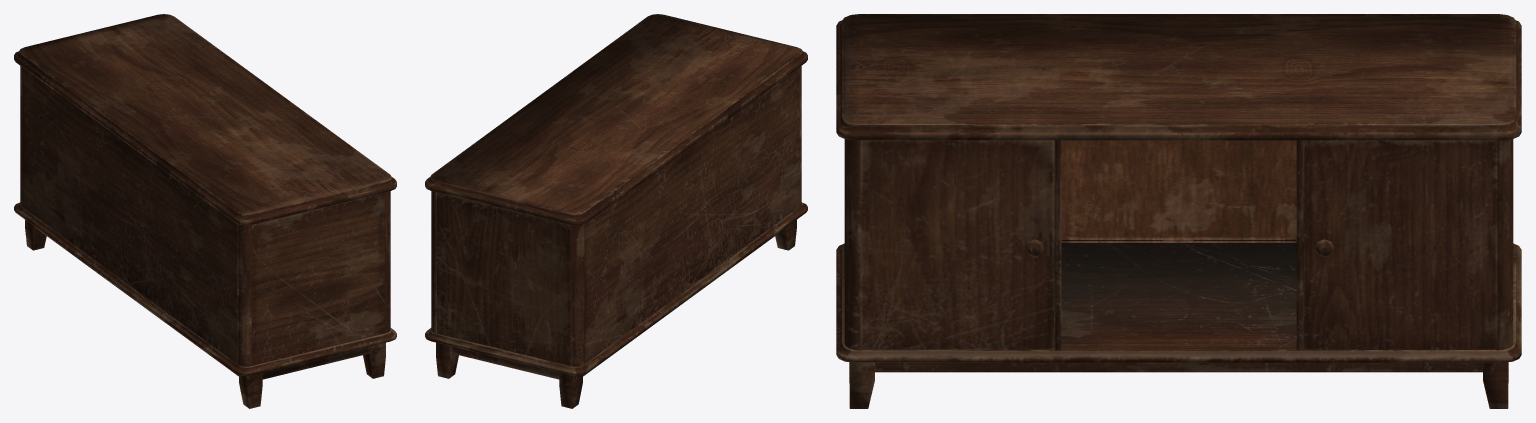
Rendered from soviet_old_table.glb.
3 views of the same model, side by side, from view 1: azimuth 30°, elevation 25°; view 2: azimuth 150°, elevation 25°; view 3: azimuth 270°, elevation 25° (orthographic). The views are drawn at different scales.
Parts seen in each view (by area): view 1: 8_low, 9_low, 4_low, 2_low, 5_low, 11_low, 13_low; view 2: 8_low, 9_low, 4_low, 2_low, 5_low, 11_low, 13_low; view 3: 8_low, 7_low, 2_low, 10_low, 5_low, 12_low, 6_low, 11_low.
Boxes of the visible parts, box(x1,y1,x2,y2) form: 8_low: box(14, 14, 396, 225); 9_low: box(22, 67, 237, 363); 4_low: box(251, 192, 384, 365); 2_low: box(14, 202, 396, 375); 5_low: box(20, 66, 390, 366); 11_low: box(25, 220, 385, 408); 13_low: box(262, 346, 370, 379); 8_low: box(425, 14, 807, 225); 9_low: box(584, 67, 799, 363); 4_low: box(437, 192, 570, 365); 2_low: box(425, 202, 807, 375); 5_low: box(431, 66, 801, 366); 11_low: box(436, 220, 796, 408); 13_low: box(451, 346, 559, 379); 8_low: box(836, 14, 1521, 140); 7_low: box(860, 140, 1497, 349); 2_low: box(836, 242, 1521, 362); 10_low: box(1061, 140, 1296, 242); 5_low: box(844, 139, 1513, 350); 12_low: box(875, 362, 1482, 372); 6_low: box(1055, 140, 1302, 350); 11_low: box(849, 362, 1508, 408).
Size of the model in its own units: 0.442 by 0.5058 by 1.08.
Materials: 1 (1 with a texture image).
